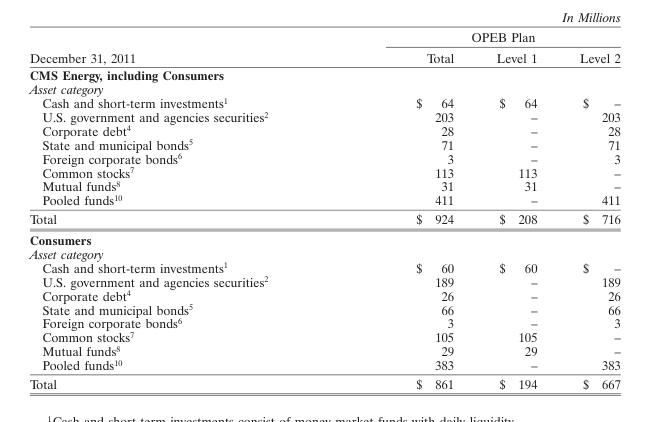table: (28, 29, 619, 391)
table column: (28, 29, 341, 391), (341, 29, 474, 391), (474, 29, 557, 391), (557, 29, 619, 391)
table column header: (28, 29, 619, 66)
table projected row header: (28, 229, 619, 246), (28, 66, 619, 81), (28, 81, 619, 95), (28, 246, 619, 260)
table row: (28, 209, 619, 229), (28, 47, 619, 66), (28, 29, 619, 47), (28, 192, 619, 209), (28, 229, 619, 246), (28, 357, 619, 374), (28, 374, 619, 391), (28, 66, 619, 81), (28, 81, 619, 95), (28, 95, 619, 109), (28, 109, 619, 123), (28, 123, 619, 137), (28, 137, 619, 151), (28, 151, 619, 165), (28, 178, 619, 192), (28, 246, 619, 260), (28, 260, 619, 274), (28, 274, 619, 288), (28, 288, 619, 302), (28, 315, 619, 329), (28, 329, 619, 343), (28, 343, 619, 357), (28, 165, 619, 178), (28, 302, 619, 315)
table spanning cell: (28, 29, 341, 66), (341, 29, 619, 47)
